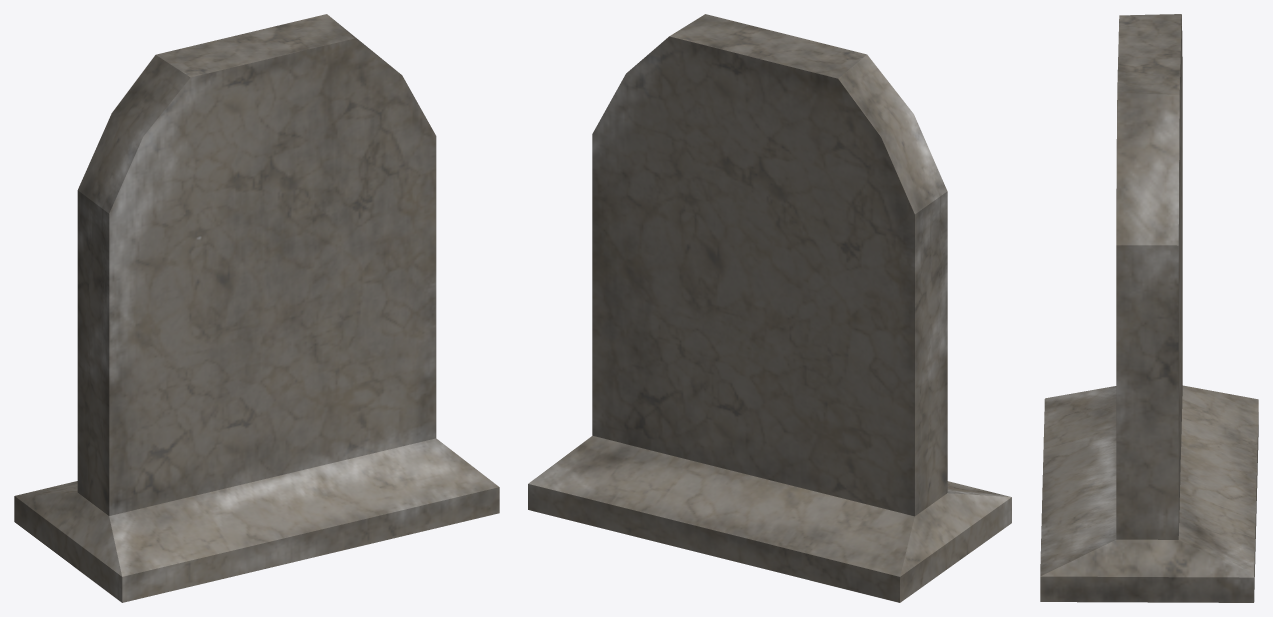
Rendered from lapida_2_UVM.fbx.
The picture shows the model from 3 angles, left to right: view 1: azimuth 30°, elevation 25°; view 2: azimuth 150°, elevation 25°; view 3: azimuth 270°, elevation 25°; orthographic projection. The views are drawn at different scales.
Visible parts, largest first — view 1: lapida_2; view 2: lapida_2; view 3: lapida_2.
Part boxes in pixels (x1,y1,x2,y2): lapida_2: (14, 14, 499, 602); lapida_2: (528, 14, 1011, 602); lapida_2: (1040, 14, 1258, 602).
Size of the model in its own units: 101 by 120 by 51.86.
